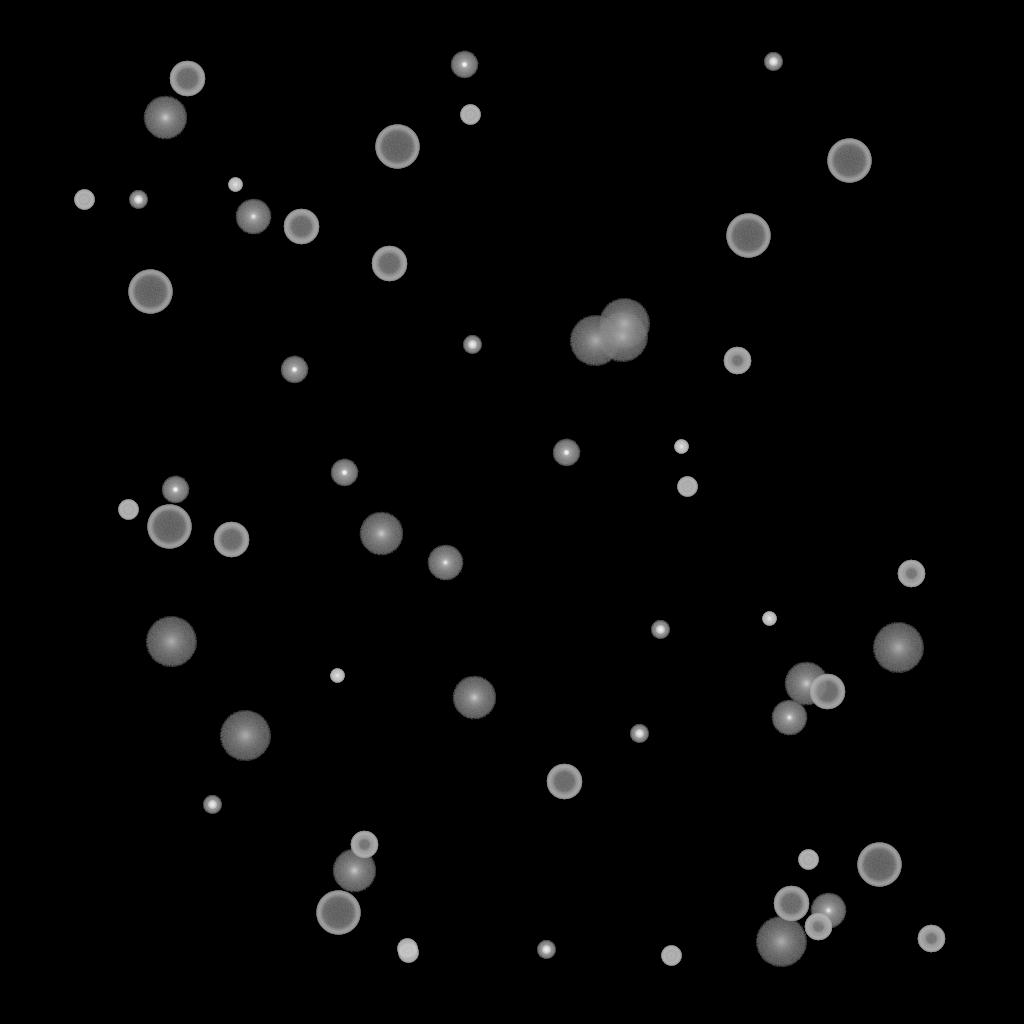depth:-10: (330, 459, 358, 487), (552, 439, 580, 467), (161, 476, 189, 504), (280, 356, 308, 384), (450, 51, 478, 79)
depth:-20: (463, 336, 481, 354), (630, 725, 648, 743), (203, 796, 221, 814), (764, 53, 782, 71), (537, 941, 555, 959), (129, 191, 147, 209), (651, 621, 669, 639)
depth:-30: (330, 669, 344, 683), (762, 612, 776, 626), (228, 178, 242, 192), (674, 440, 688, 454)
depth:-40: (74, 190, 94, 210), (118, 500, 138, 520), (661, 946, 681, 966), (460, 105, 480, 125), (677, 477, 697, 497), (397, 939, 417, 959), (398, 943, 418, 963), (798, 850, 818, 870)
depth:-50: (350, 831, 378, 859), (917, 925, 945, 953), (804, 913, 832, 941), (897, 560, 925, 588), (723, 347, 751, 375)
depth:-60: (773, 886, 809, 922), (283, 209, 319, 245), (546, 764, 582, 800), (371, 246, 407, 282), (809, 674, 845, 710), (169, 61, 205, 97), (213, 522, 249, 558)
depth:-70: (375, 125, 419, 169), (827, 139, 871, 183), (128, 270, 172, 314), (316, 891, 360, 935), (726, 214, 770, 258), (857, 843, 901, 887), (147, 505, 191, 549)
depth:0: (235, 199, 271, 235), (771, 700, 807, 736), (427, 545, 463, 581), (810, 893, 846, 929)
depth:10: (143, 96, 187, 140), (452, 676, 496, 720), (359, 512, 403, 556), (332, 849, 376, 893), (784, 662, 828, 706)
depth:20: (569, 316, 621, 366), (755, 917, 807, 967), (596, 312, 648, 362), (598, 299, 650, 349), (145, 617, 197, 667), (219, 711, 271, 761), (872, 623, 924, 673)
